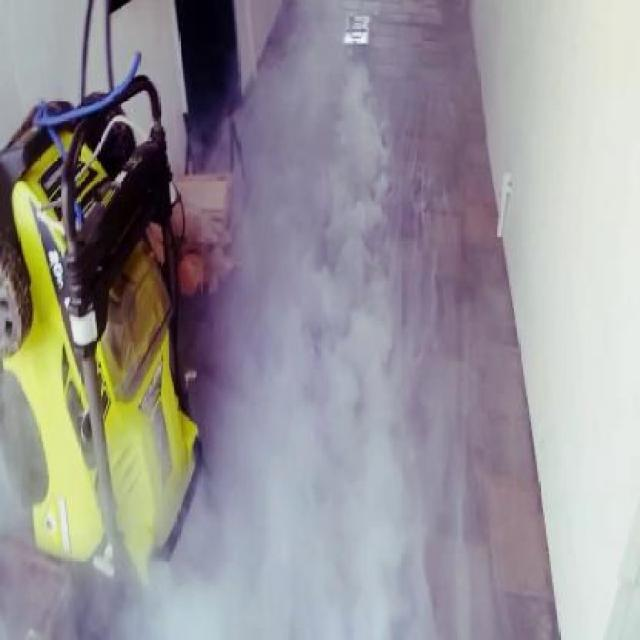smoke: (191, 147, 470, 640)
